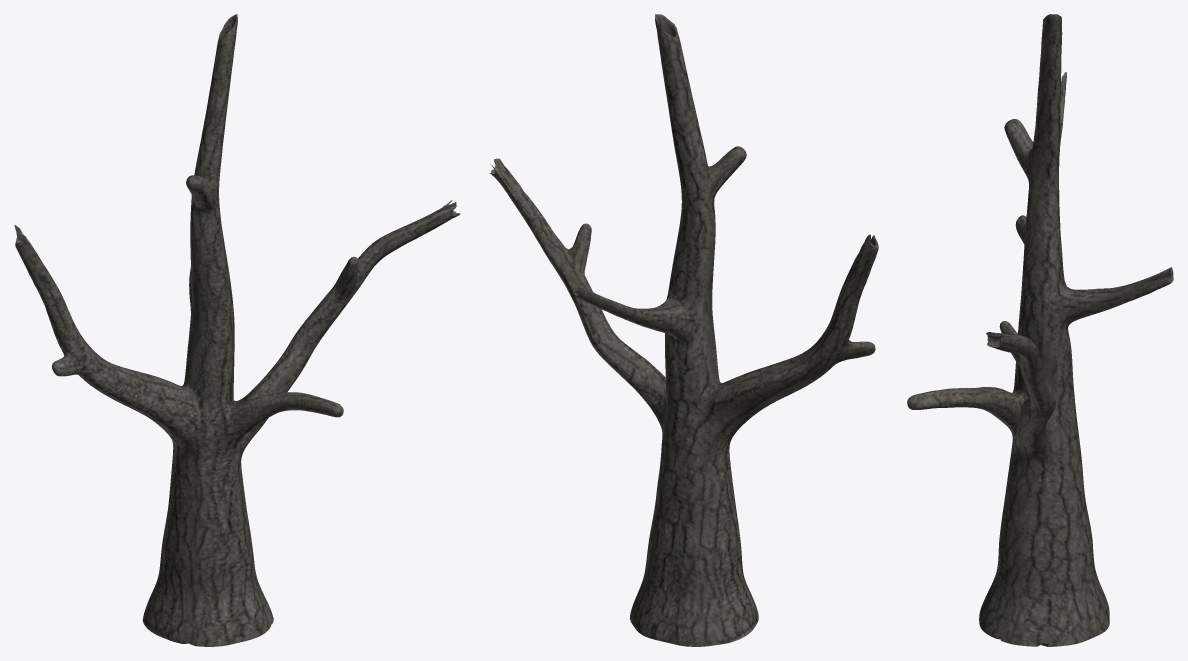
The model's file is m18-dead-tree-pixelated.glb.
The picture shows the model from 3 angles, left to right: view 1: azimuth 30°, elevation 25°; view 2: azimuth 150°, elevation 25°; view 3: azimuth 270°, elevation 25°; orthographic projection. The views are drawn at different scales.
Parts seen in each view (by area): view 1: m18-dead-tree-meshy.glb; view 2: m18-dead-tree-meshy.glb; view 3: m18-dead-tree-meshy.glb.
Part boxes in pixels (bbox=[...]): m18-dead-tree-meshy.glb: bbox=[14, 14, 460, 646]; m18-dead-tree-meshy.glb: bbox=[489, 14, 878, 646]; m18-dead-tree-meshy.glb: bbox=[907, 14, 1173, 646].
Bounding box in the file's own units: 1.38 × 1.9 × 0.7355.
1 material, 1 textured.
